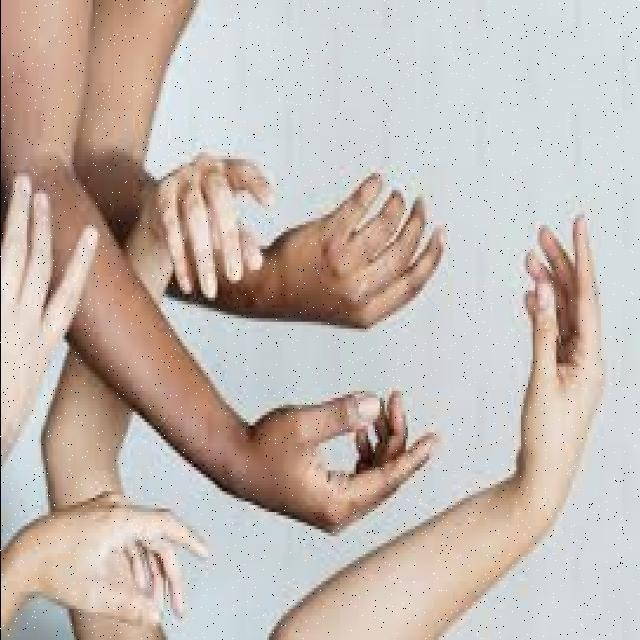no_apron: (0, 146, 108, 446), (258, 360, 442, 532), (504, 212, 604, 512), (289, 149, 446, 329), (31, 497, 212, 640), (152, 123, 278, 310)
